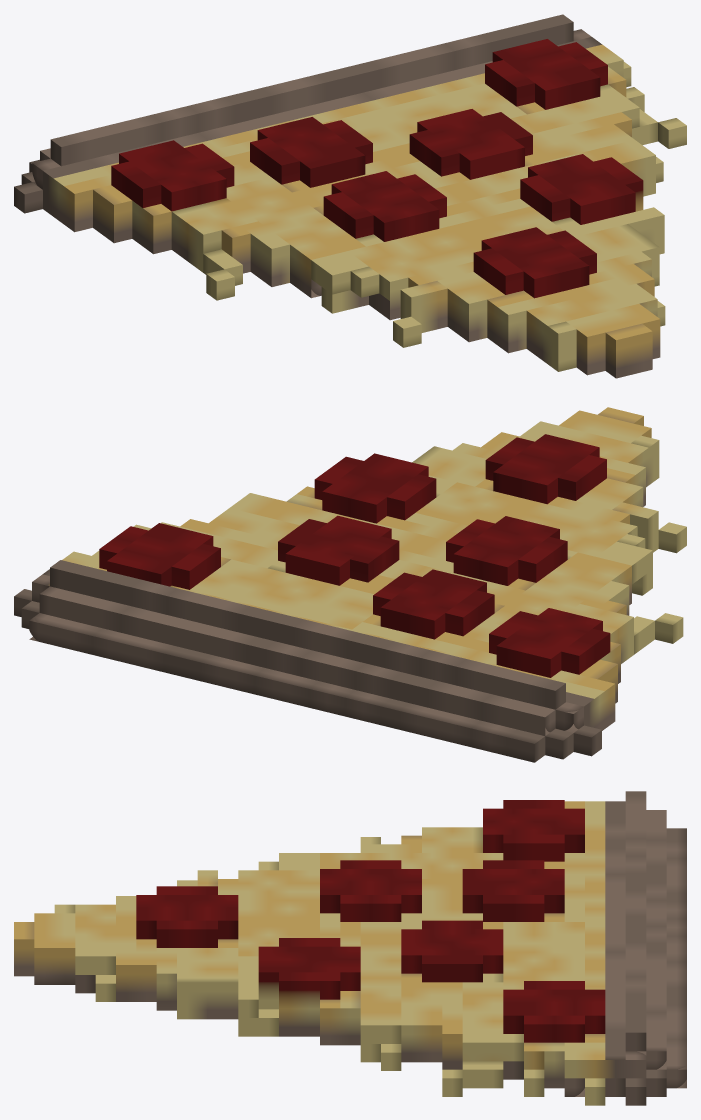
File: PIZZA_EASTER_EGG_ZN.dae
The picture shows the model from 3 angles, top to bottom: view 1: azimuth 30°, elevation 25°; view 2: azimuth 150°, elevation 25°; view 3: azimuth 270°, elevation 25°; orthographic projection. The views are drawn at different scales.
Visible parts, largest first — view 1: Content; view 2: Content; view 3: Content.
Part boxes in pixels (bbox=[...]): Content: bbox=[14, 14, 686, 378]; Content: bbox=[14, 407, 686, 762]; Content: bbox=[14, 791, 686, 1105].
Size of the model in its own units: 32 by 3 by 33.
1 material, 1 textured.
